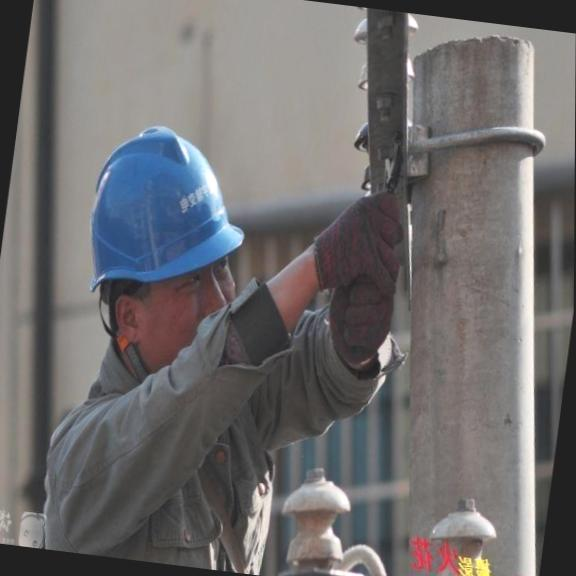no_safety_vest: (33, 354, 280, 574)
